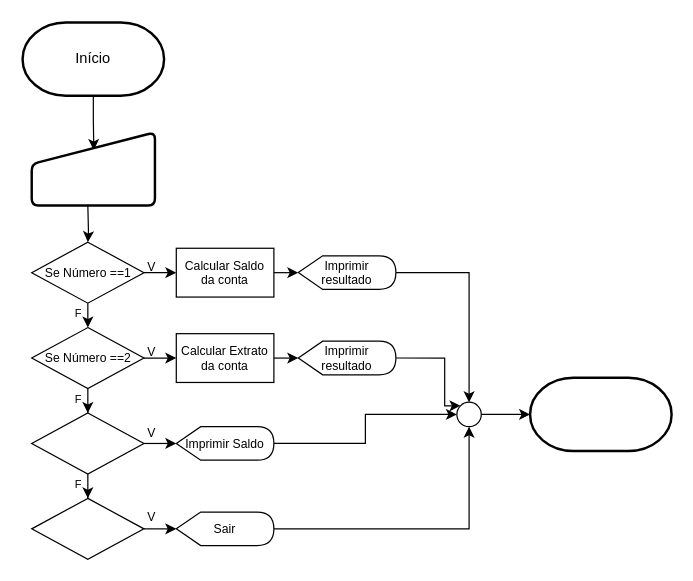
Some shapes in this 693 by 581 pixel diagram are drawn without their labels. The shapes that lost their labels are listed below. From the top down, each one's centre as x and y in pixels, then its label:
At (x=93, y=168): "Variável Número: 1;2;3;4".
At (x=600, y=414): "Fim".
At (x=87, y=443): "Se Número ==3".
At (x=87, y=528): "Se Número ==4".
